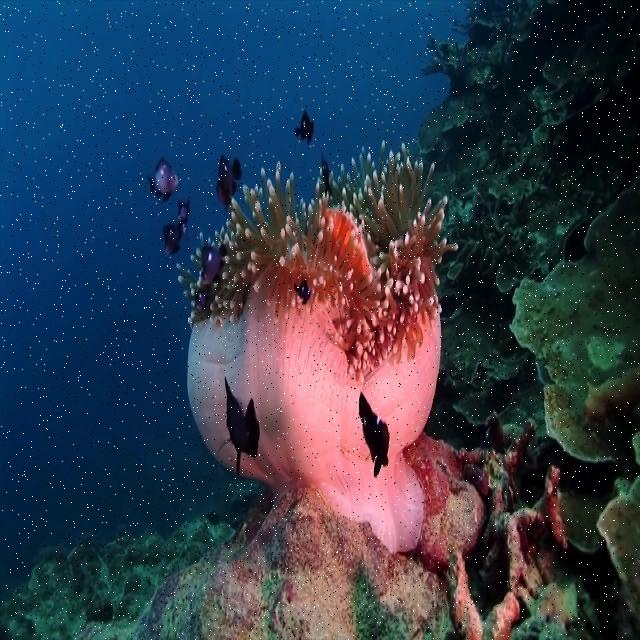fish: (162, 199, 193, 254), (145, 160, 183, 198), (216, 155, 242, 207), (291, 106, 315, 146)
reefs: (174, 137, 460, 551)
